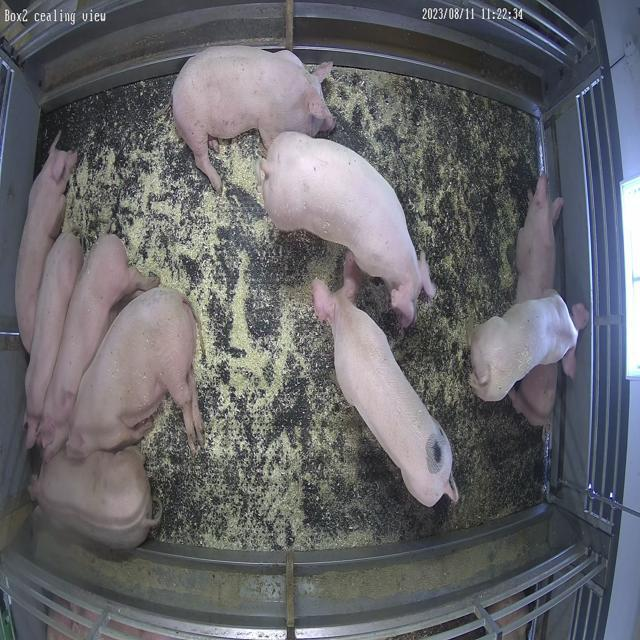Dirt: (453, 92, 539, 302), (444, 401, 544, 530)
Pig: (258, 132, 436, 328), (314, 281, 460, 508), (38, 234, 159, 460), (172, 45, 336, 192), (65, 288, 203, 460), (16, 133, 77, 352), (31, 448, 159, 551), (25, 232, 83, 448), (471, 294, 579, 402), (517, 176, 565, 304), (510, 365, 558, 426)
